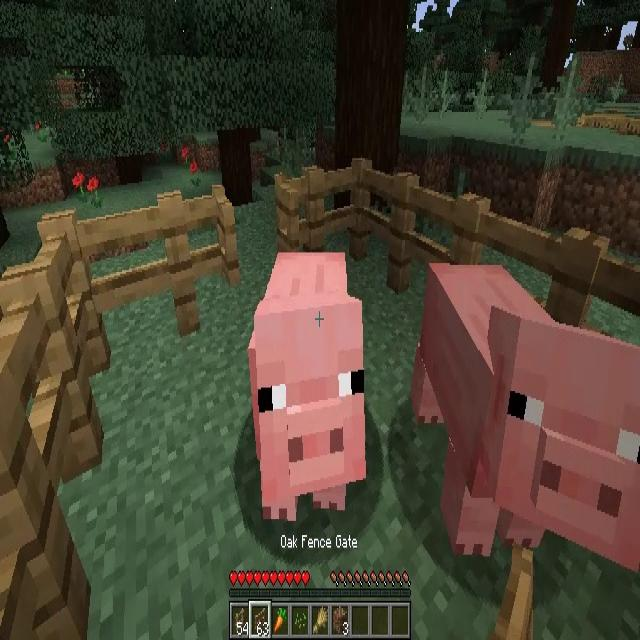pig: (411, 265, 640, 575), (250, 252, 367, 523)
